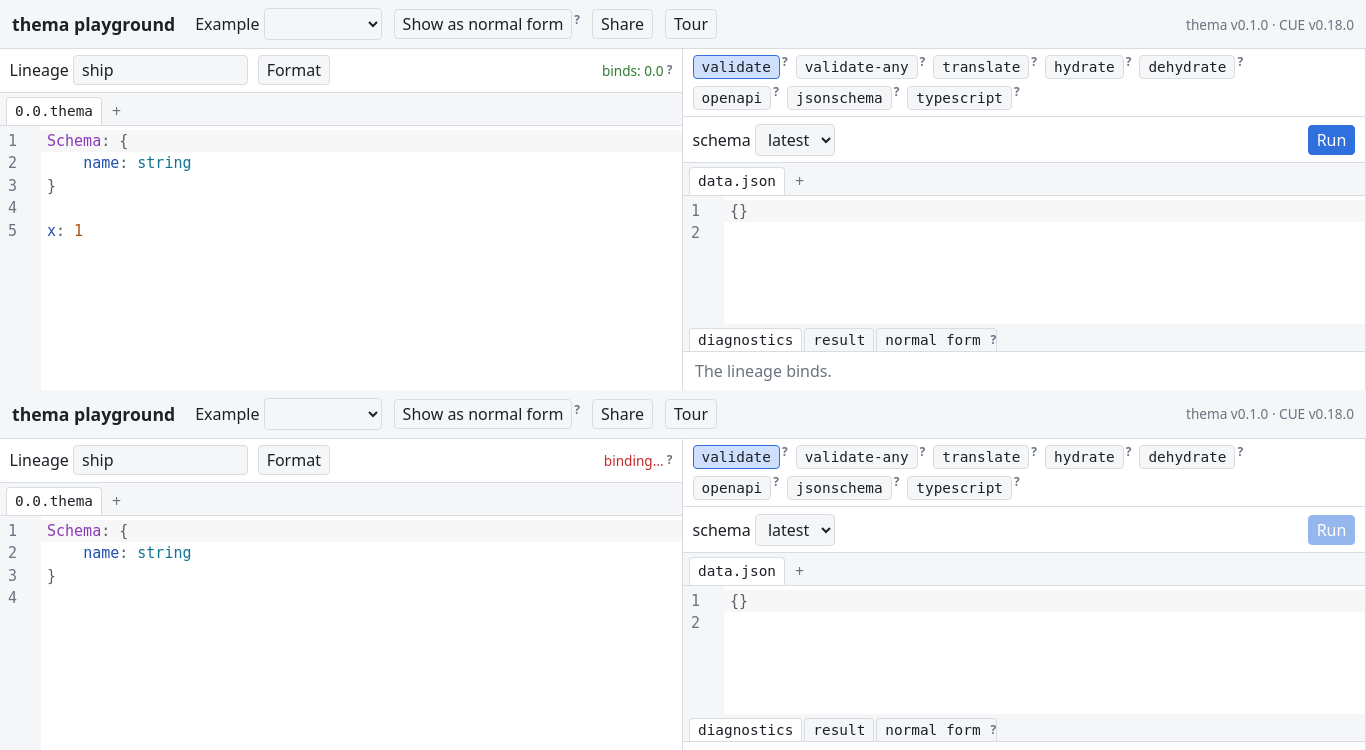
Test: App › opens the tour beside the work, and closes it
Click the 2nd button "Tour": (691,414) [665, 399, 717, 429]
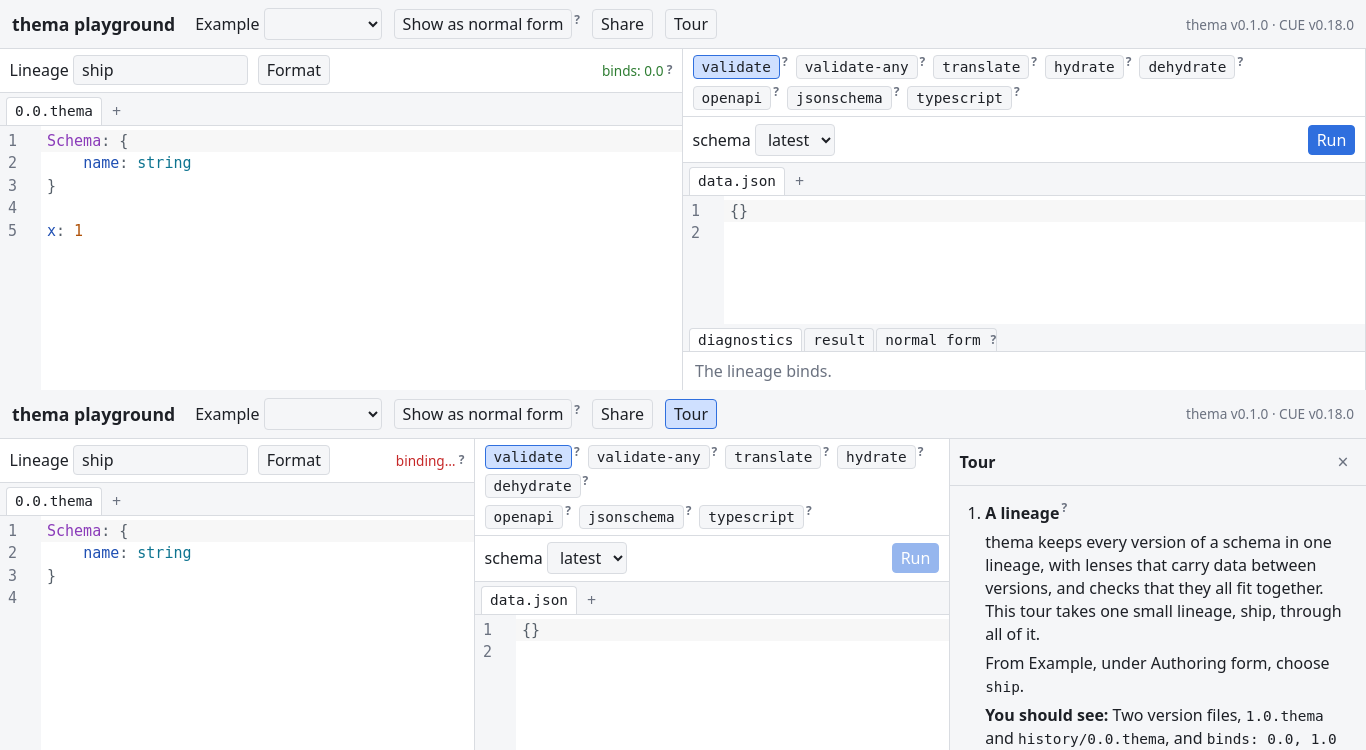
Click the button with class "close": (1343,462) [1329, 445, 1356, 478]
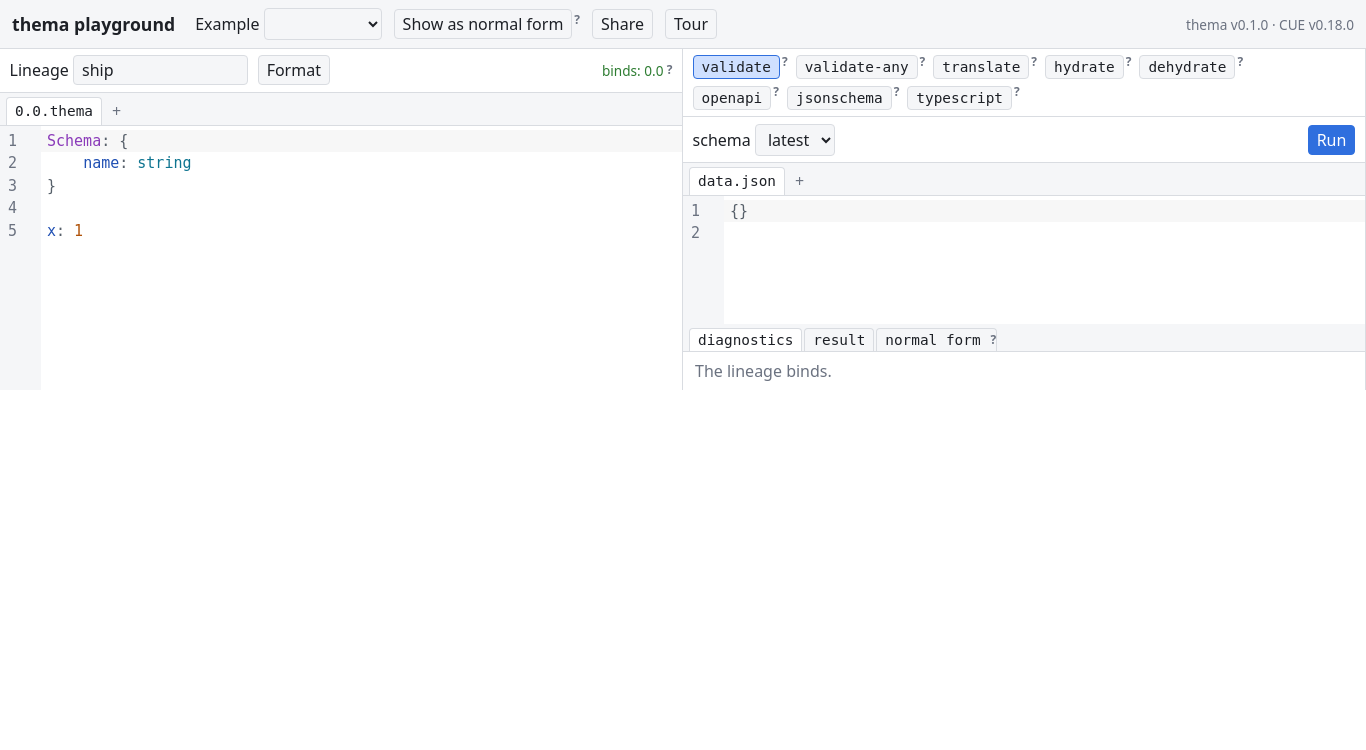
Now the button with class "tour" is gone
